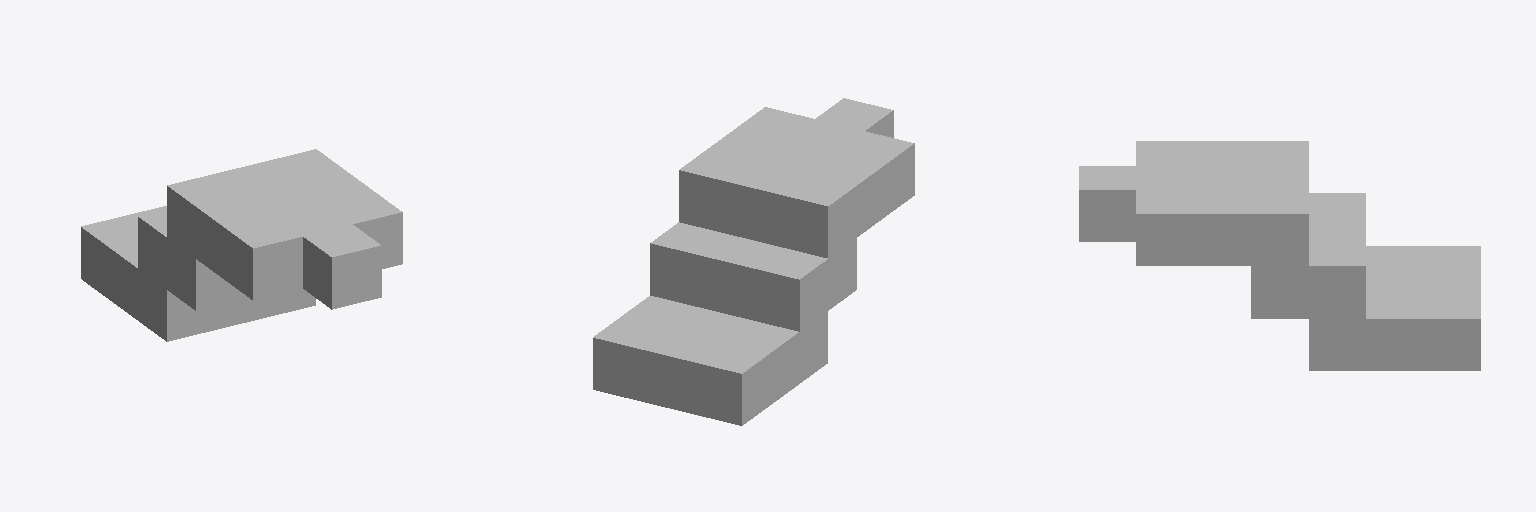
File: ship-1.obj
The picture shows the model from 3 angles: view 1: azimuth 30°, elevation 25°; view 2: azimuth 150°, elevation 25°; view 3: azimuth 270°, elevation 25°; orthographic projection.
Visible parts, largest first — view 1: object 1; view 2: object 1; view 3: object 1.
Boxes of the visible parts, box(x1,y1,x2,y2) form: object 1: box(81, 149, 402, 341); object 1: box(593, 98, 914, 425); object 1: box(1079, 141, 1480, 370).
Size of the model in its own units: 0.3 by 0.3 by 0.7.